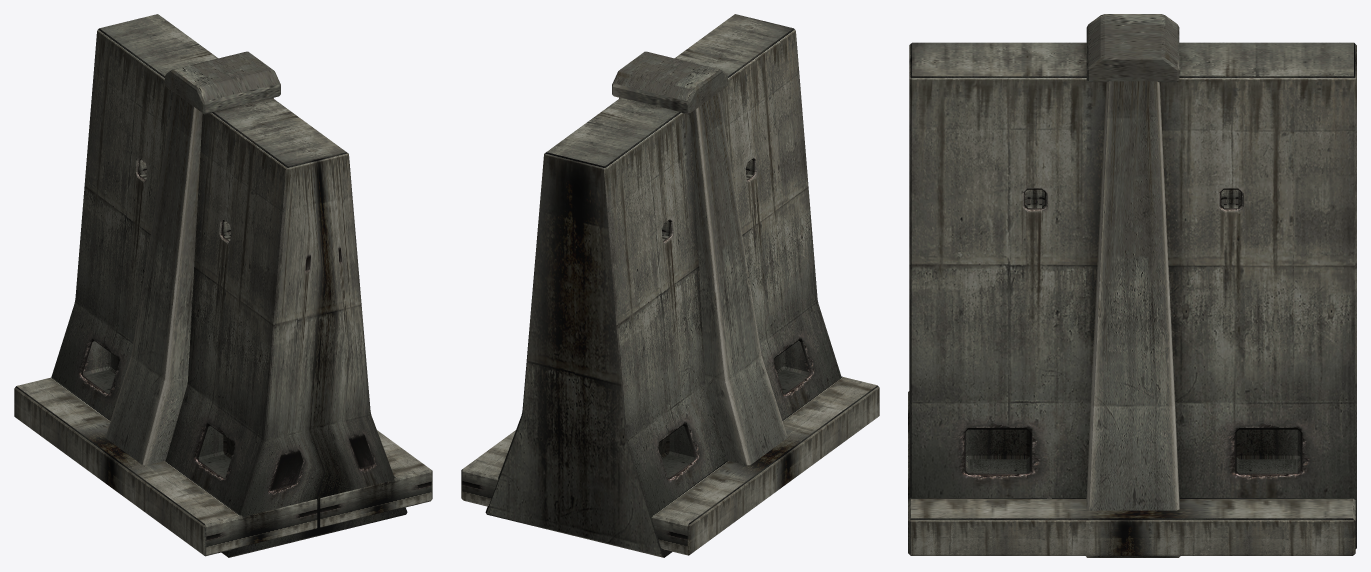
The model's file is straight.fbx.
3 views of the same model, side by side, from view 1: azimuth 30°, elevation 25°; view 2: azimuth 150°, elevation 25°; view 3: azimuth 270°, elevation 25° (orthographic). The views are drawn at different scales.
Parts seen in each view (by area): view 1: Cube_cuts, Cube_4, Cube, Cube_1; view 2: Cube_cuts, Cube, Cube_4, Cube_1; view 3: Cube_cuts, Cube, Cube_4, Cube_1.
Boxes of the visible parts, x1,y1,x2,y2 form: Cube_cuts: (51,14,407,557); Cube_4: (14,377,432,556); Cube: (105,92,273,465); Cube_1: (165,51,280,114); Cube_cuts: (485,14,841,557); Cube: (619,92,787,465); Cube_4: (461,376,879,555); Cube_1: (612,51,727,114); Cube_cuts: (909,42,1356,548); Cube: (1086,81,1180,557); Cube_4: (908,391,1355,555); Cube_1: (1086,14,1179,82).
Size of the model in its own units: 139 by 229 by 201.
Materials: 2 (2 with a texture image).
